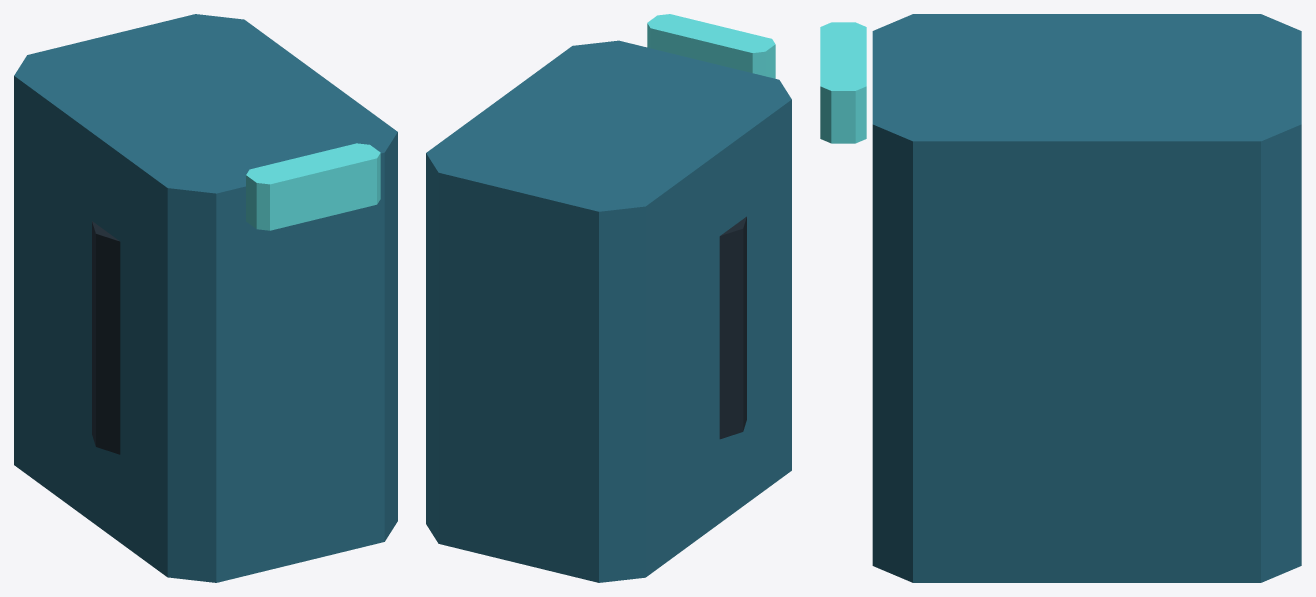
The model's file is enemy_marksman_forearm_r.obj.
3 renders of one model, left to right at view 1: azimuth 30°, elevation 25°; view 2: azimuth 150°, elevation 25°; view 3: azimuth 270°, elevation 25°, orthographic. The views are drawn at different scales.
Size of the model in its own units: 0.2716 by 0.44 by 0.415.
